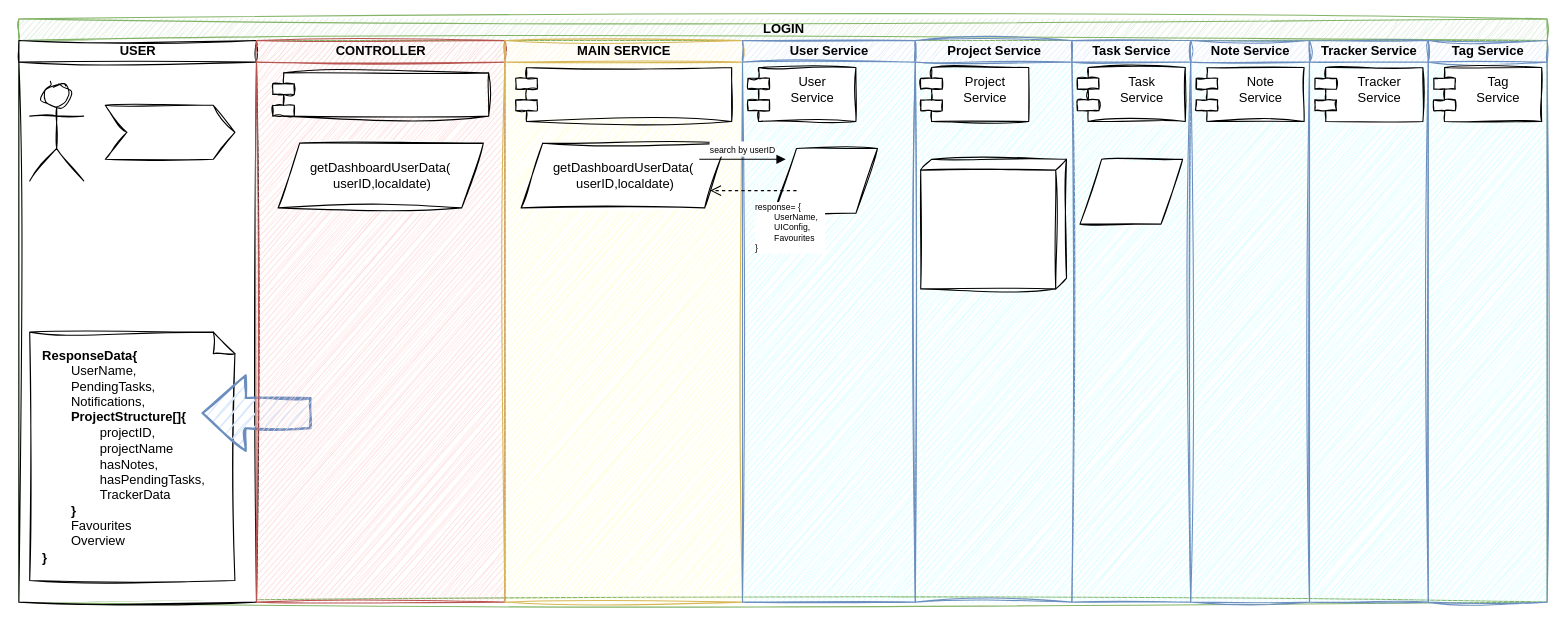
Some shapes in this 1566 by 621 pixel diagram are drawn without their labels. The shapes that lost their labels are listed below. From the top down, each one's centre as x and y in pixels, then its label:
At (x=380, y=94): "AuthController".
At (x=623, y=94): "AuthService".
At (x=56, y=132): "Actor".
At (x=169, y=131): "POST_LOGIN".
At (x=826, y=180): "getUser".
At (x=993, y=223): "GenerateProjectStructure >getAllUserProjectsOrdered ByHolderId().map()".
